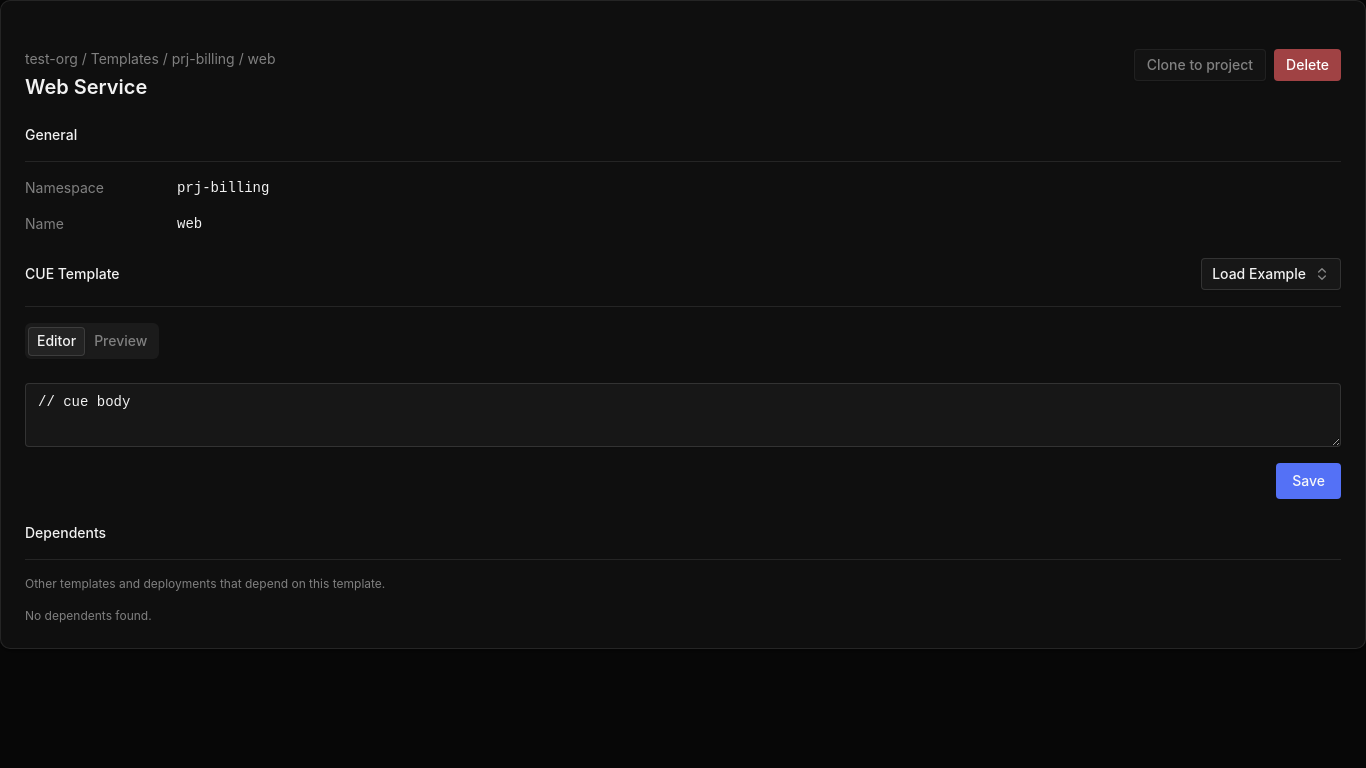
ConsolidatedTemplateEditorPage › delete flow › opens the confirmation dialog when Delete is clicked
This screenshot has width=1366, height=768.
Click the button "Delete" at (1308, 65), box [1274, 49, 1341, 81]
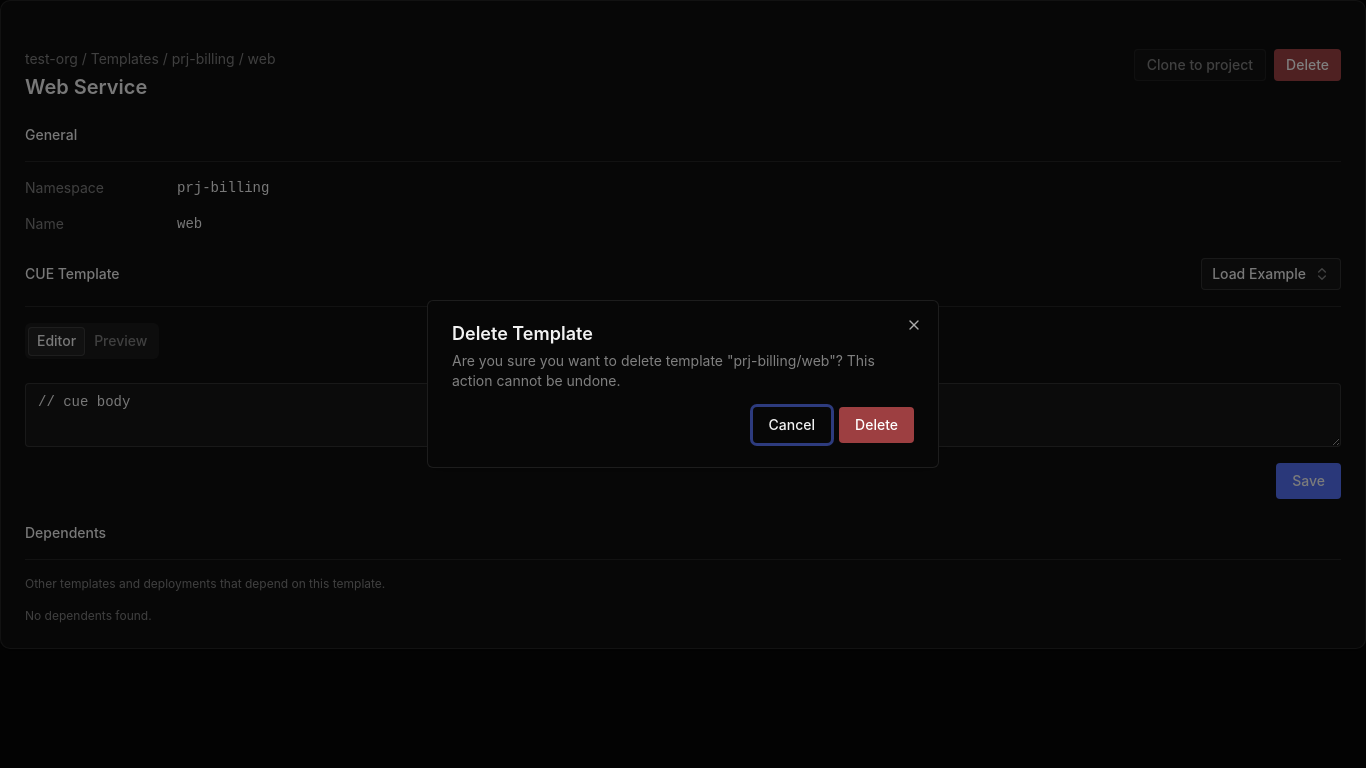
Now the heading "Delete Template" is shown, box [452, 323, 593, 344]
Now the text "prj-billing/web" is shown, box [452, 351, 914, 391]
Now the text "cannot be undone" is shown, box [452, 352, 875, 389]
